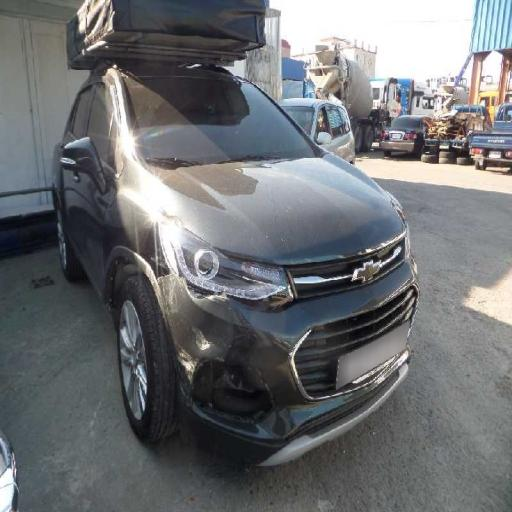dent: (134, 205, 280, 415)
